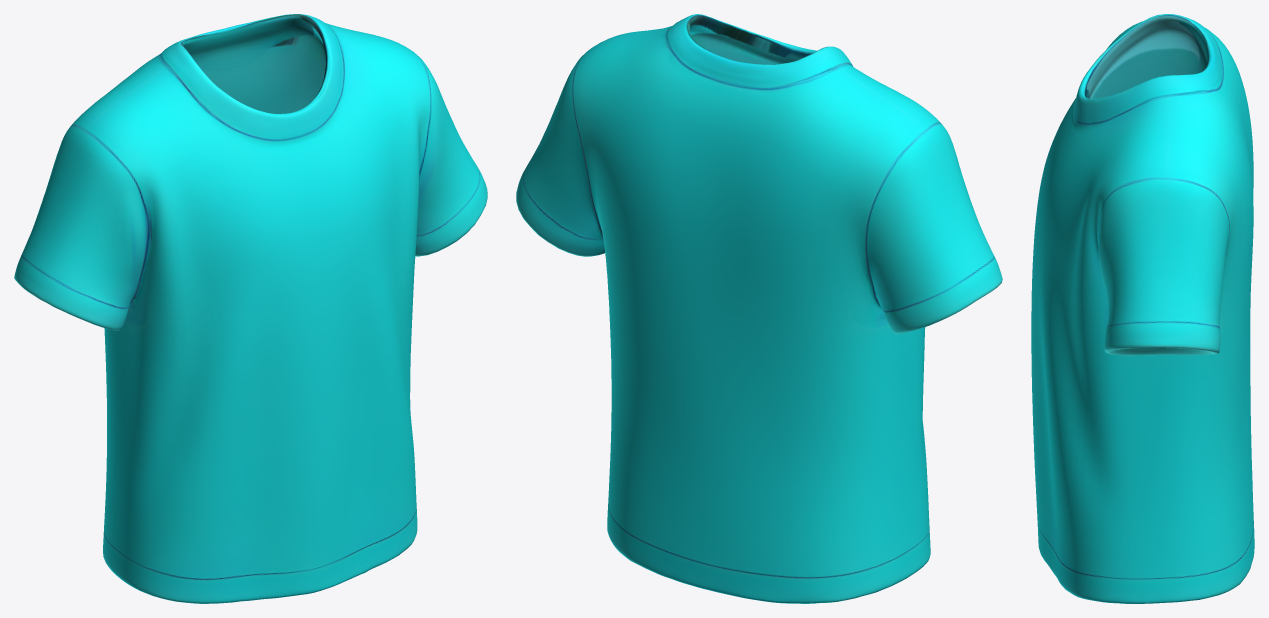
File: base_basic_pbr.glb
The picture shows the model from 3 angles, left to right: view 1: azimuth 30°, elevation 25°; view 2: azimuth 150°, elevation 25°; view 3: azimuth 270°, elevation 25°; orthographic projection. The views are drawn at different scales.
Parts seen in each view (by area): view 1: model; view 2: model; view 3: model.
Part boxes in pixels (left/top/right/bottom): model: left=14, top=14, right=487, bottom=603; model: left=516, top=14, right=1002, bottom=603; model: left=1031, top=14, right=1254, bottom=603.
Size of the model in its own units: 1.77 by 1.91 by 0.7686.
Materials: 1 (1 with a texture image).
